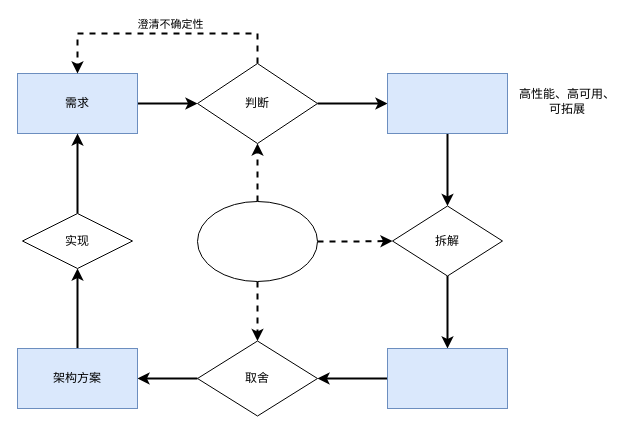
The diagram is 635 pixels wide and 433 high, and some of its shapes have lost their labels. Each missing label, with the centre of its shape:
备选架构: [447,378]
复杂度: [447,103]
架构设计三原则: [257,241]
